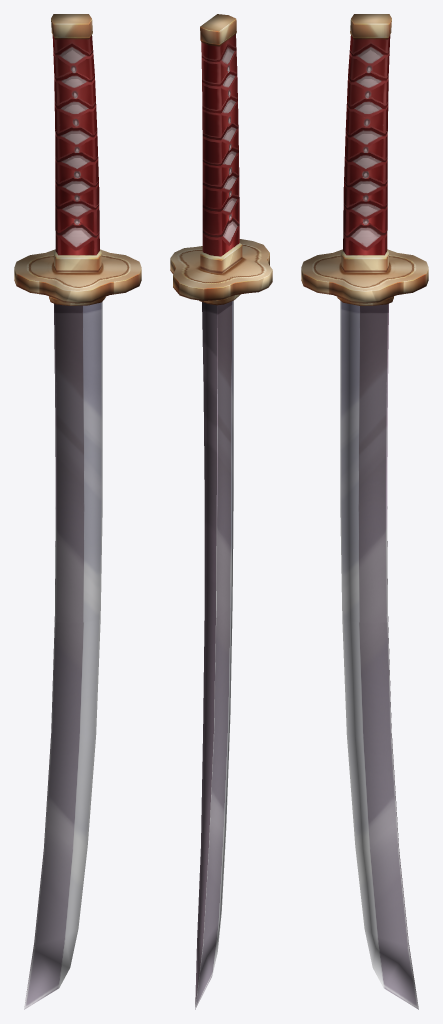
Rendered from Weapon_katana01_srowd.fbx.
3 views of the same model, side by side, from view 1: azimuth 90°, elevation 25°; view 2: azimuth 150°, elevation 25°; view 3: azimuth 270°, elevation 25° (orthographic). The views are drawn at different scales.
Visible parts, largest first — view 1: Weapon_katana01_srowd; view 2: Weapon_katana01_srowd; view 3: Weapon_katana01_srowd.
Boxes of the visible parts, x1,y1,x2,y2 form: Weapon_katana01_srowd: (14, 14, 141, 1009); Weapon_katana01_srowd: (170, 14, 272, 1009); Weapon_katana01_srowd: (301, 14, 428, 1009).
Size of the model in its own units: 17.06 by 168 by 19.61.
